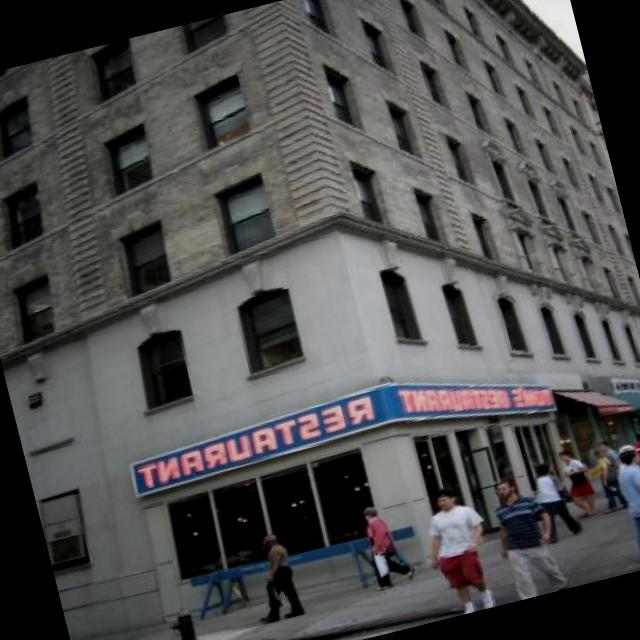Person: (406, 421, 640, 618), (238, 530, 306, 626), (350, 498, 414, 590)
